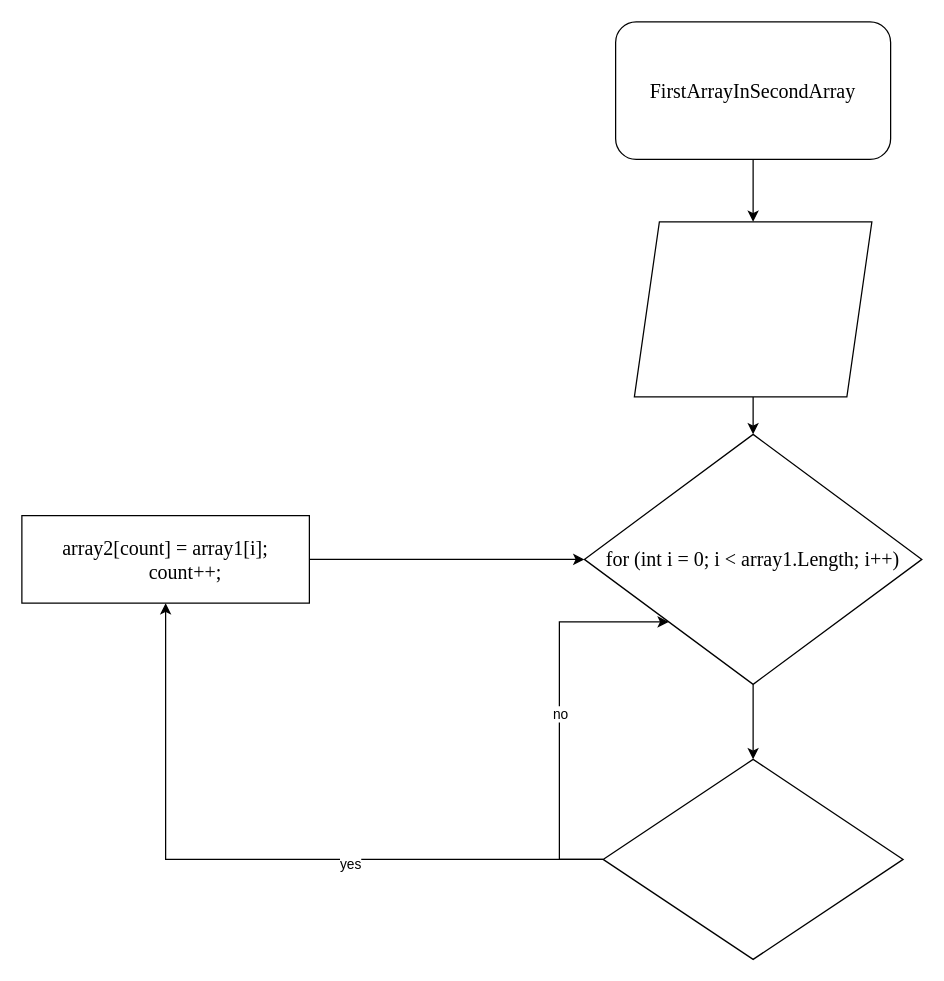
This 944x981 diagram has some shape labels left out. Each missing label, with the centre of its shape:
"if(array1[i].Length <= 3)" goes at (752,858).
"string array 1 string array 2 int count = 0" goes at (752,309).
